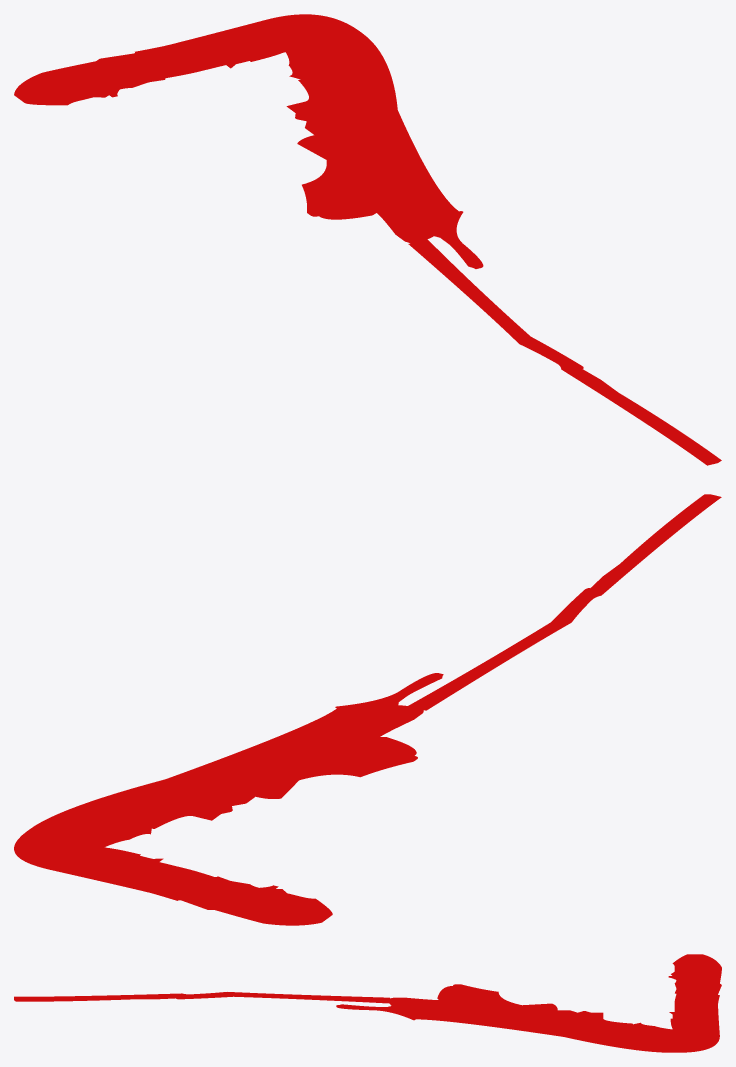
3 views of the same model, one above another, from view 1: azimuth 30°, elevation 25°; view 2: azimuth 150°, elevation 25°; view 3: azimuth 270°, elevation 25° (orthographic). The views are drawn at different scales.
Visible parts, largest first — view 1: Text; view 2: Text; view 3: Text.
Part boxes in pixels (x1,y1,x2,y2): Text: (14,14,721,465); Text: (14,494,721,925); Text: (14,954,721,1052).
Bounding box in the file's own units: 23.2 × 1.15e-05 × 70.37.
